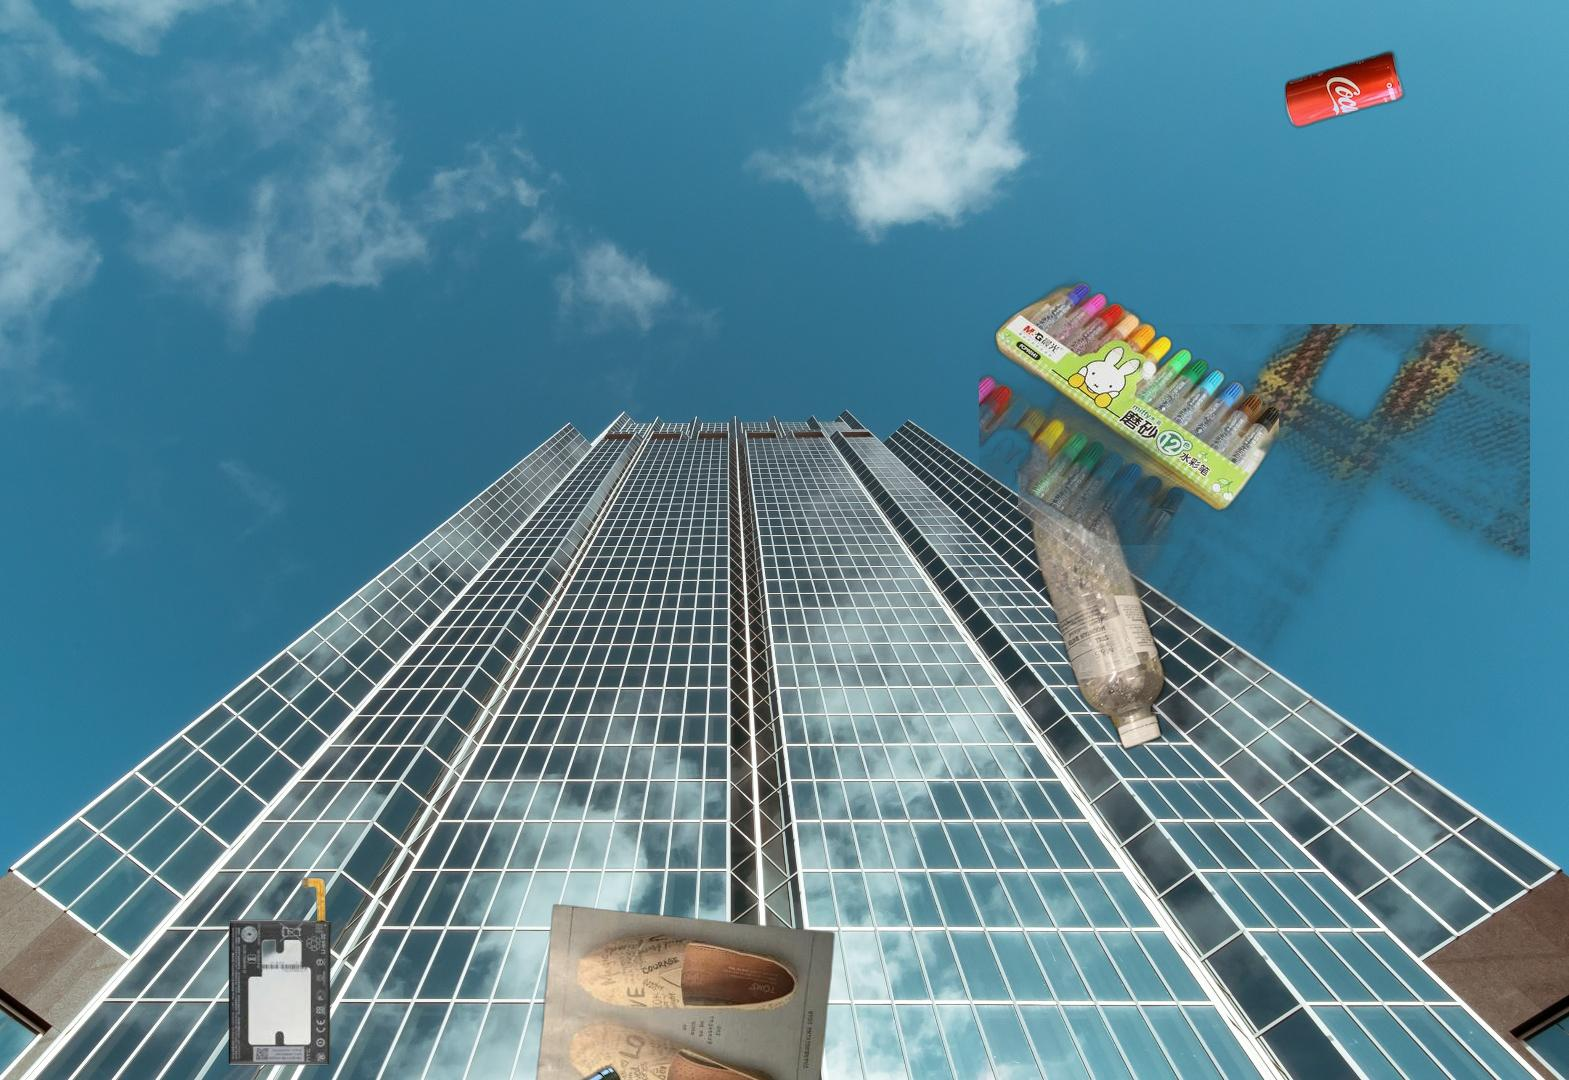battery: (159, 870, 334, 1069)
glass: (361, 1061, 625, 1080)
metal-cans: (1280, 45, 1409, 134)
paper: (529, 902, 838, 1080)
penholder: (979, 272, 1279, 545)
plastic-bottles: (1018, 324, 1530, 926)
